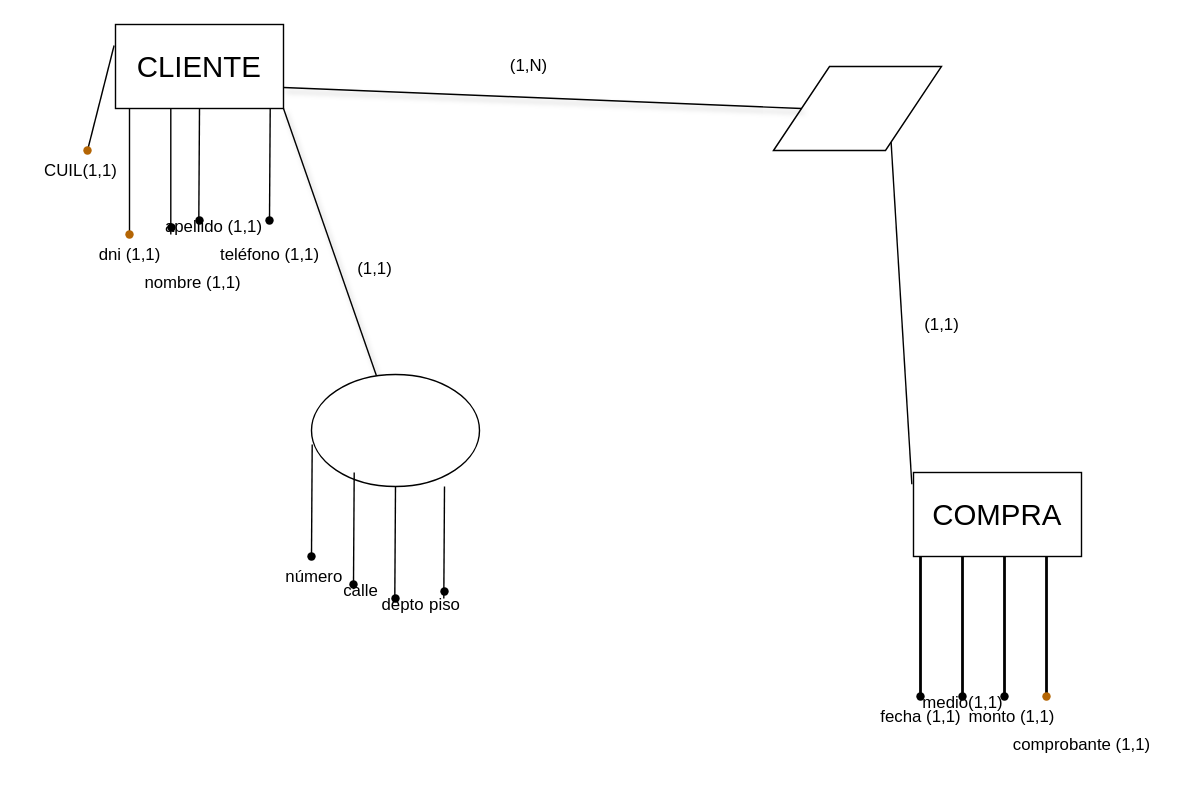
This 1189x791 diagram has some shape labels left out. The centre of each missing label's shape, as x and y in pixels:
ADQUIERE: (856,107)
DIRECCIÓN: (394,429)
